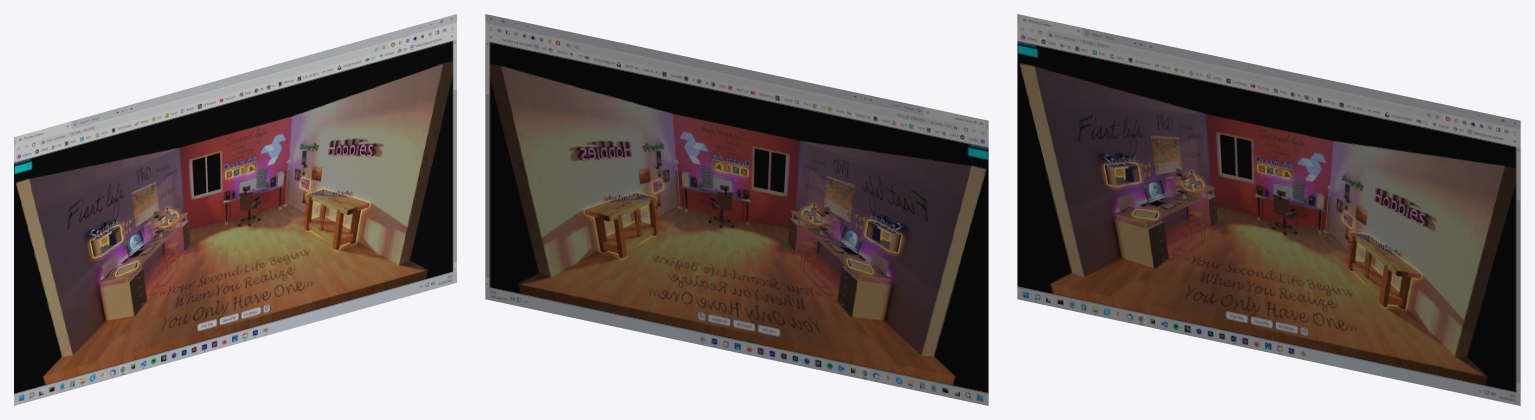
File: screenCodingHor.glb
The picture shows the model from 3 angles, left to right: view 1: azimuth 30°, elevation 25°; view 2: azimuth 150°, elevation 25°; view 3: azimuth 330°, elevation 25°; orthographic projection. The views are drawn at different scales.
Visible parts, largest first — view 1: codingHor; view 2: codingHor; view 3: codingHor.
Boxes of the visible parts, box(x1,y1,x2,y2) form: codingHor: box(14, 14, 456, 405); codingHor: box(485, 14, 988, 405); codingHor: box(1017, 14, 1520, 405).
Size of the model in its own units: 0.581 by 0.3255 by 0.0341.
Materials: 1 (1 with a texture image).
